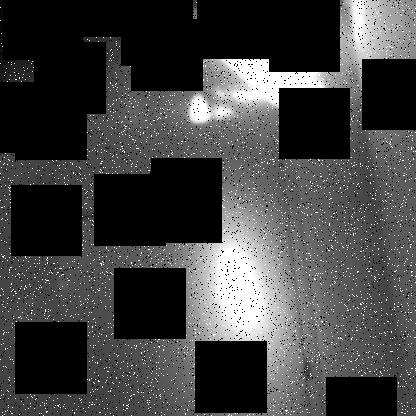Porte: (43, 1, 330, 415)
